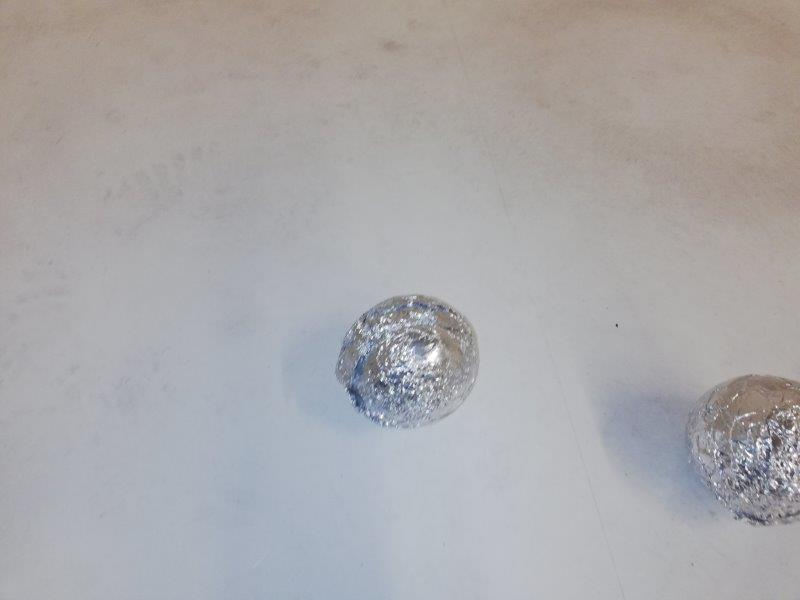bianca: (337, 292, 478, 425), (683, 375, 800, 526)
